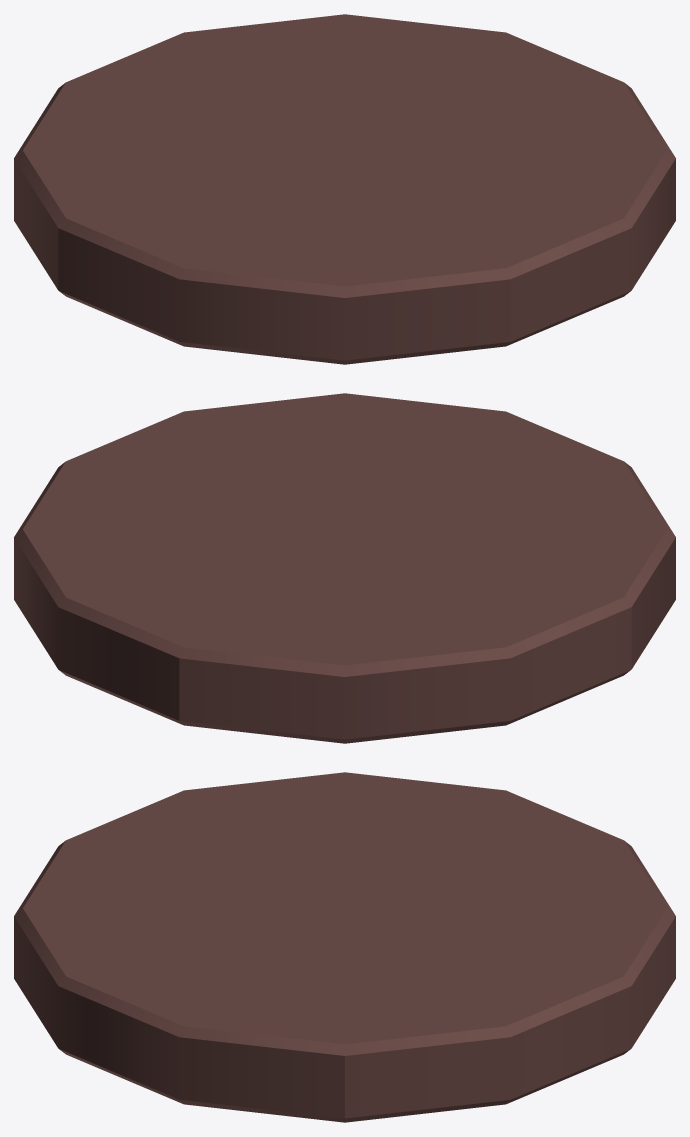
The model's file is cookedmeat.fbx.
3 views of the same model, one above another, from view 1: azimuth 30°, elevation 25°; view 2: azimuth 150°, elevation 25°; view 3: azimuth 270°, elevation 25° (orthographic).
Parts seen in each view (by area): view 1: meatcooked; view 2: meatcooked; view 3: meatcooked.
Boxes of the visible parts, box(x1,y1,x2,y2) form: meatcooked: box(14, 14, 675, 364); meatcooked: box(14, 393, 675, 743); meatcooked: box(14, 772, 675, 1122).
Size of the model in its own units: 0.1384 by 0.018 by 0.1384.
